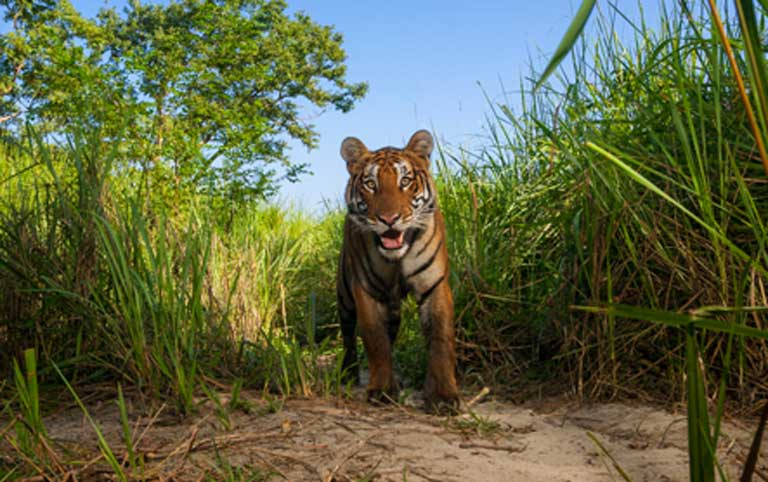Tigrew: (324, 119, 522, 424)
